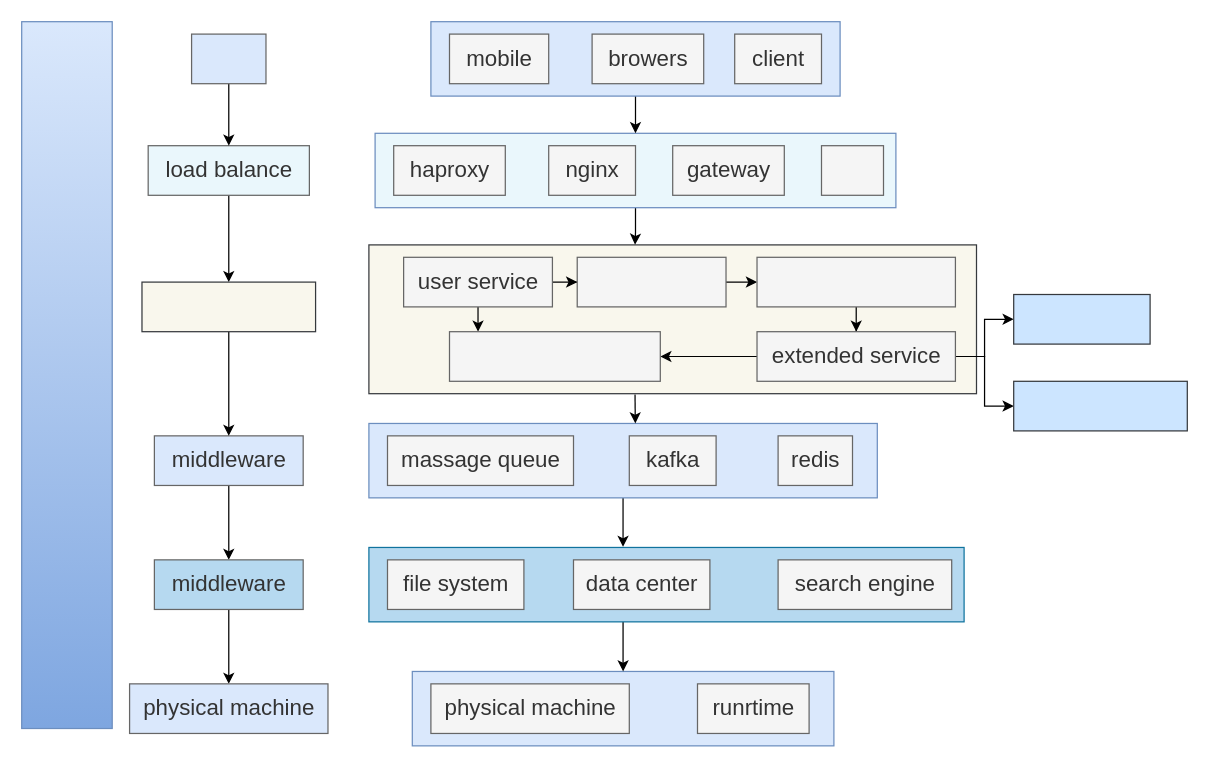
Some shapes in this 1209 by 768 pixel diagram are drawn without their labels. The centre of each missing label's shape, as x and y in pixels:
"business service" belongs at point (855, 281).
"framework service" belongs at point (554, 355).
"lvs" belongs at point (852, 169).
"system archi tecture" belongs at point (66, 374).
"system servcie" belongs at point (228, 306).
"TC service" belongs at point (1081, 318).
"unreal service" belongs at point (1099, 405).
"user" belongs at point (228, 58).
"web service" belongs at point (651, 281).
